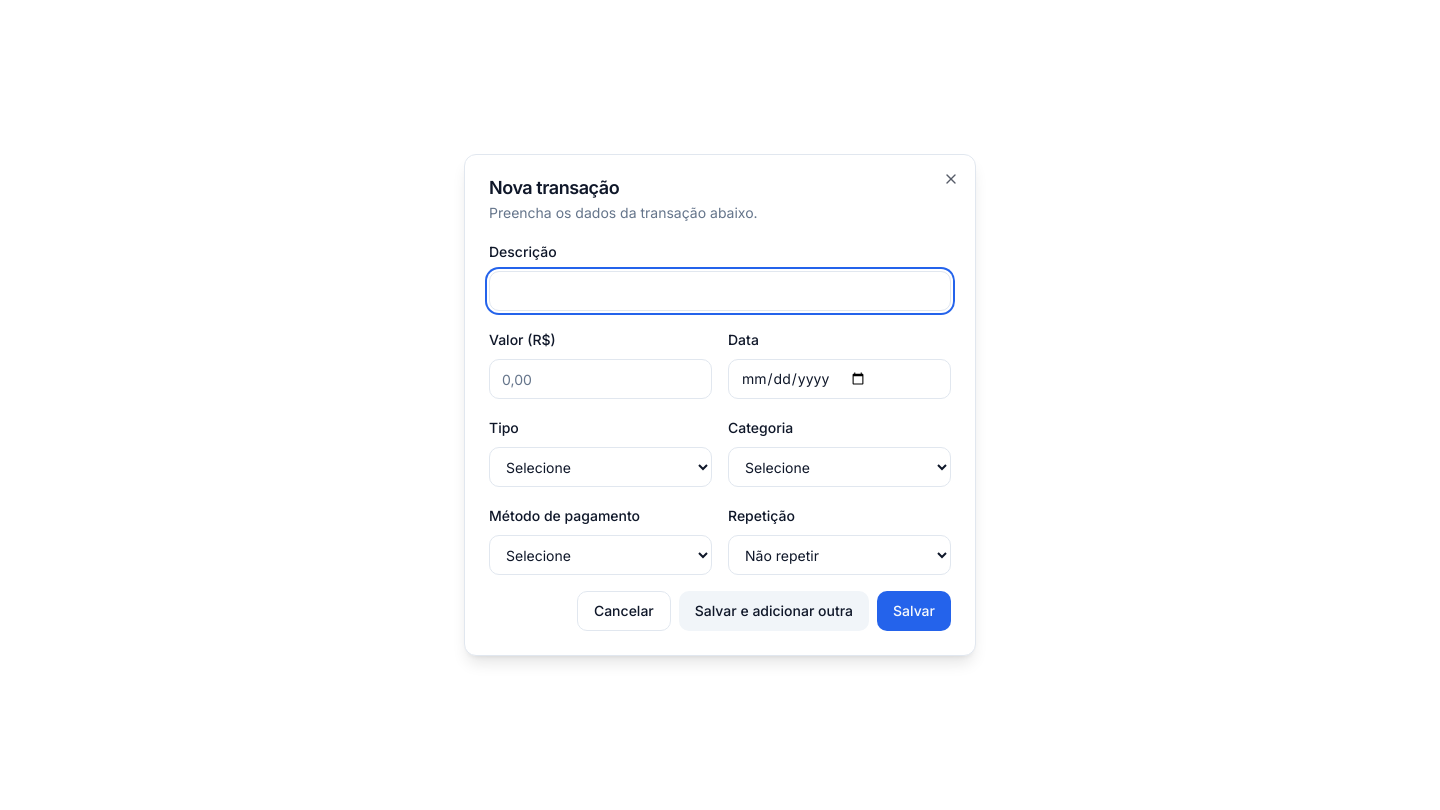
it: TransactionForm (AC-008) › mostra erro e mantém o modal quando o salvamento falha
Type "Nova despesa" into the field labelled "Descrição" at (720, 291), box [489,271,951,311]
Type "99,90" into the field labelled "Valor (R$)" at (600, 379), box [489,359,712,399]
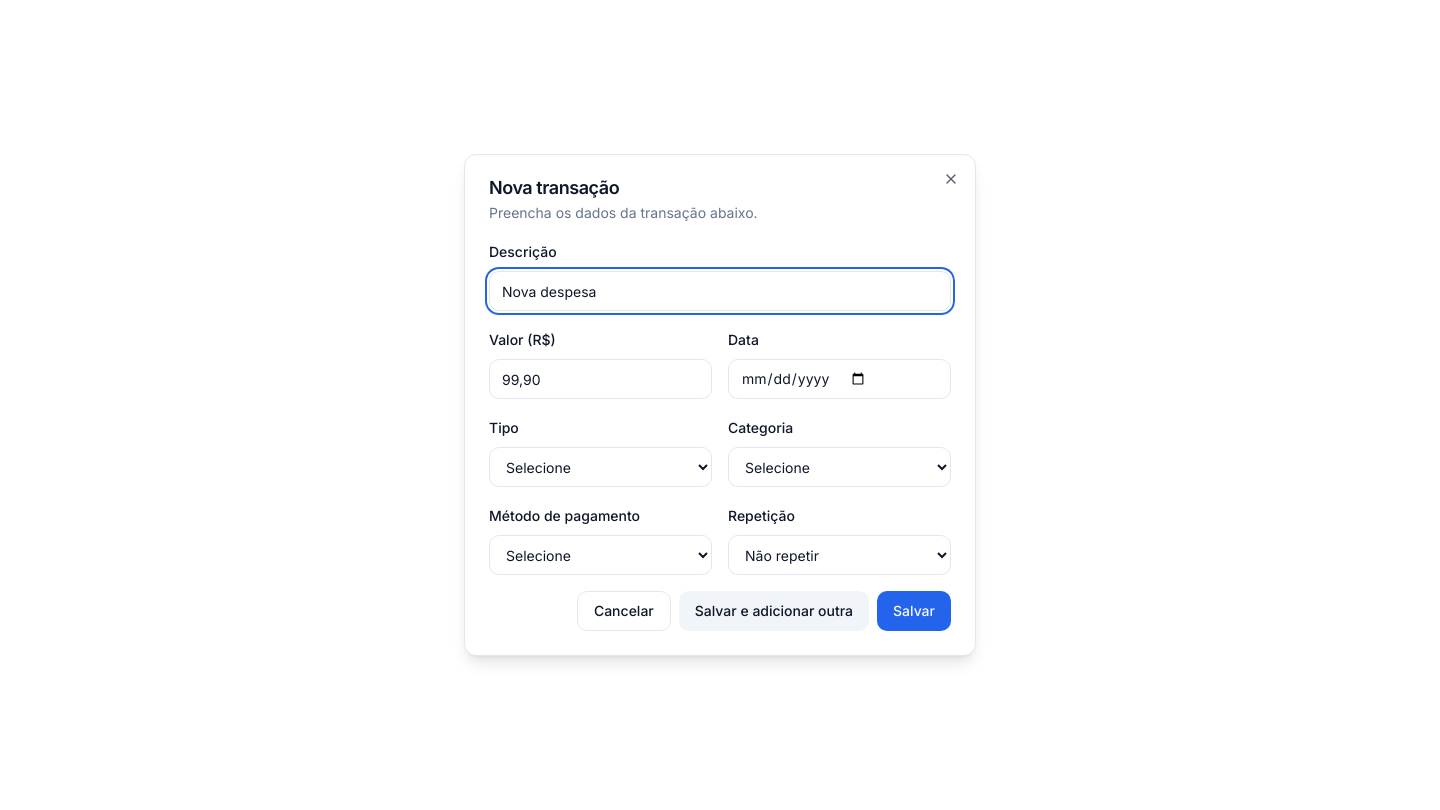
Select "Despesa" in the dropdown labelled "Tipo" at (600, 467), box [489,447,712,487]
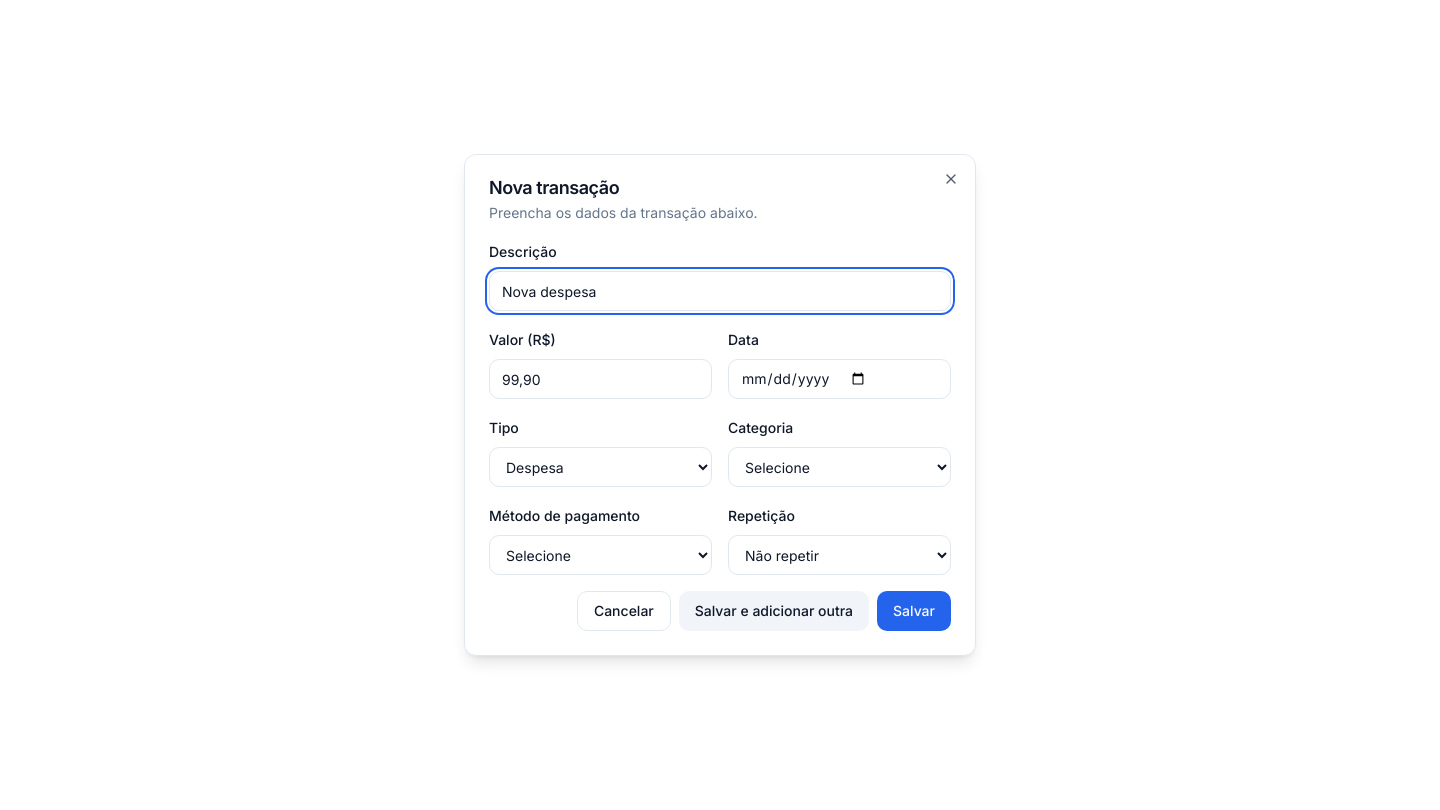
Select "Alimentação" in the dropdown labelled "Categoria" at (840, 467), box [728,447,951,487]
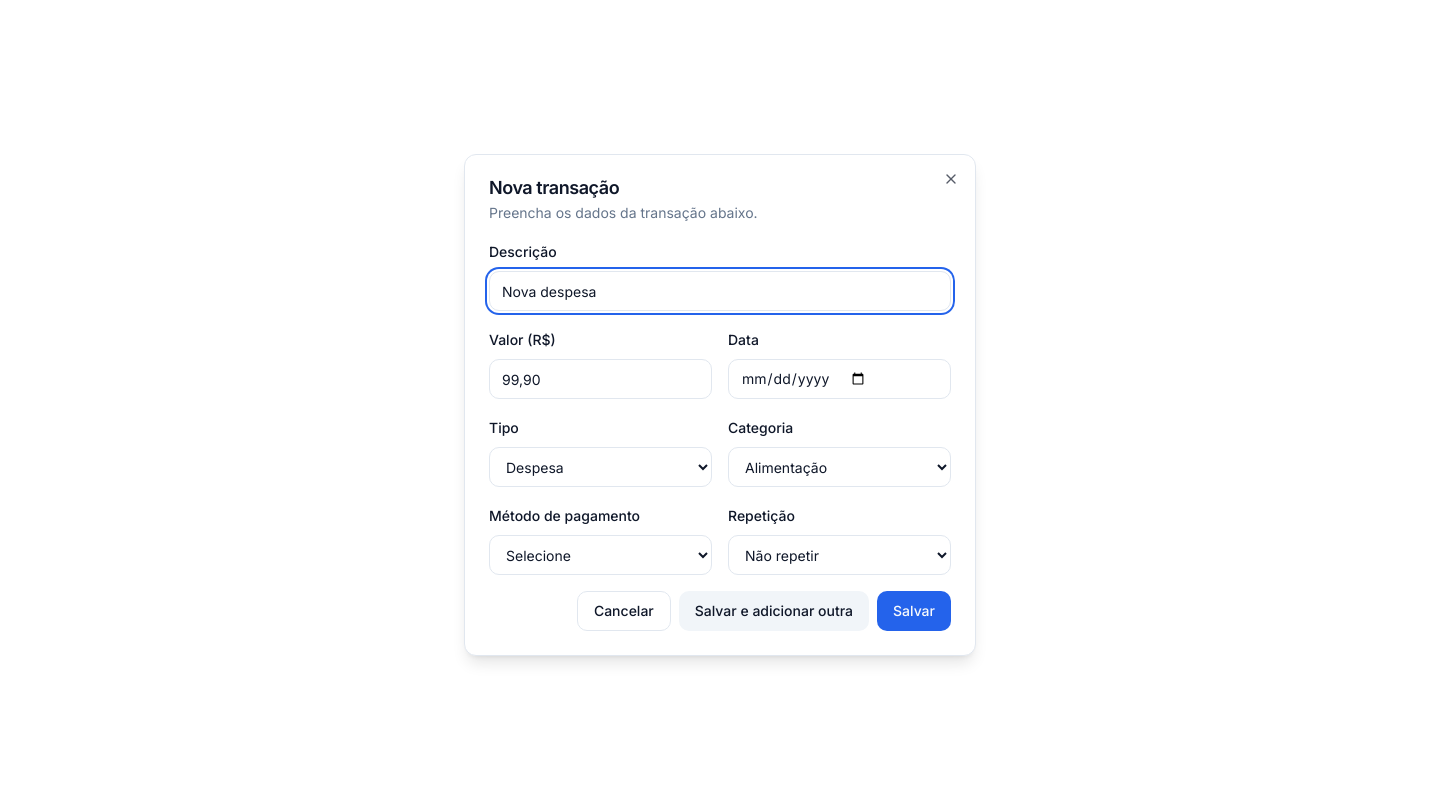
Select "Pix" in the dropdown labelled "Método de pagamento" at (600, 555), box [489,535,712,575]
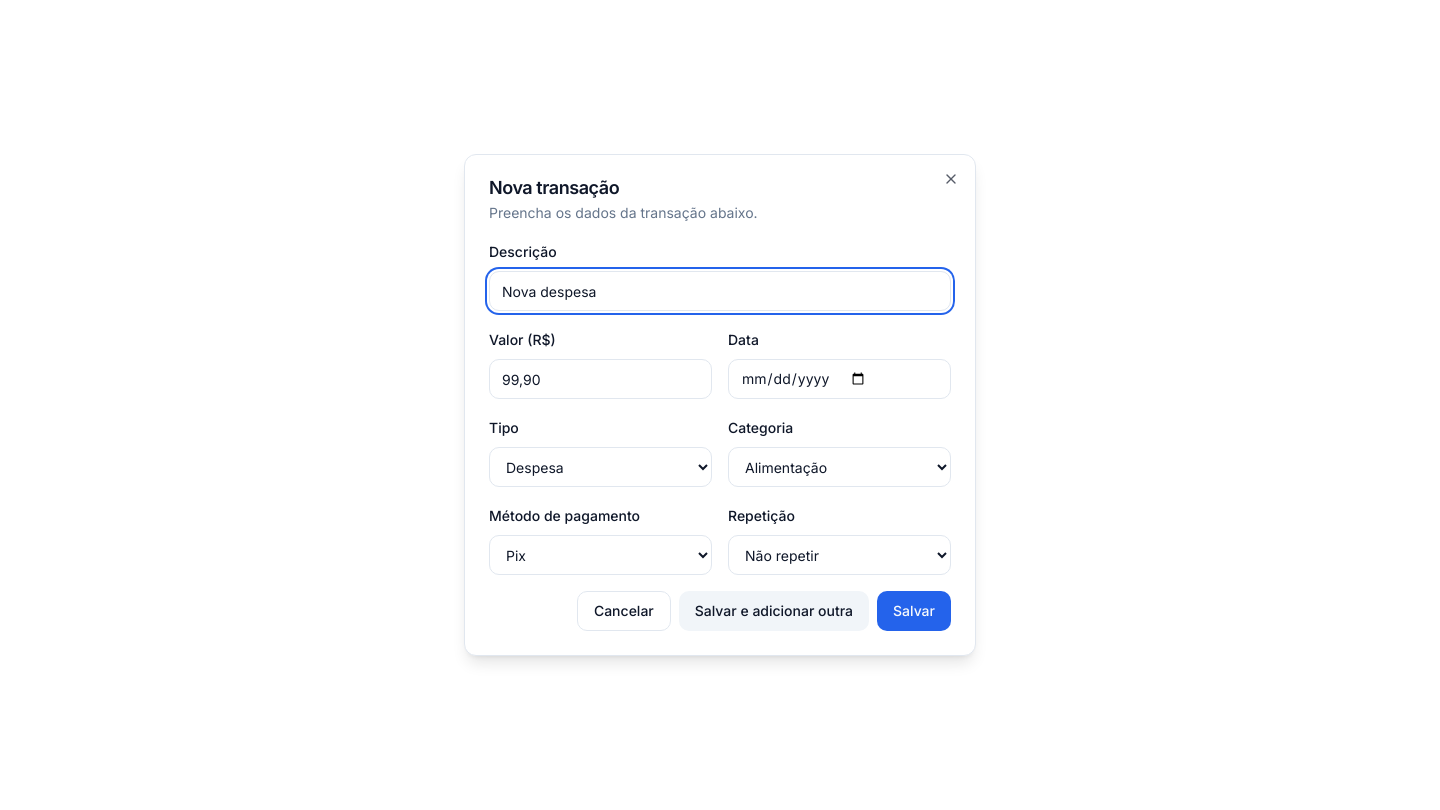
Type "2026-10-10" into the date field labelled "Data" at (840, 379), box [728,359,951,399]
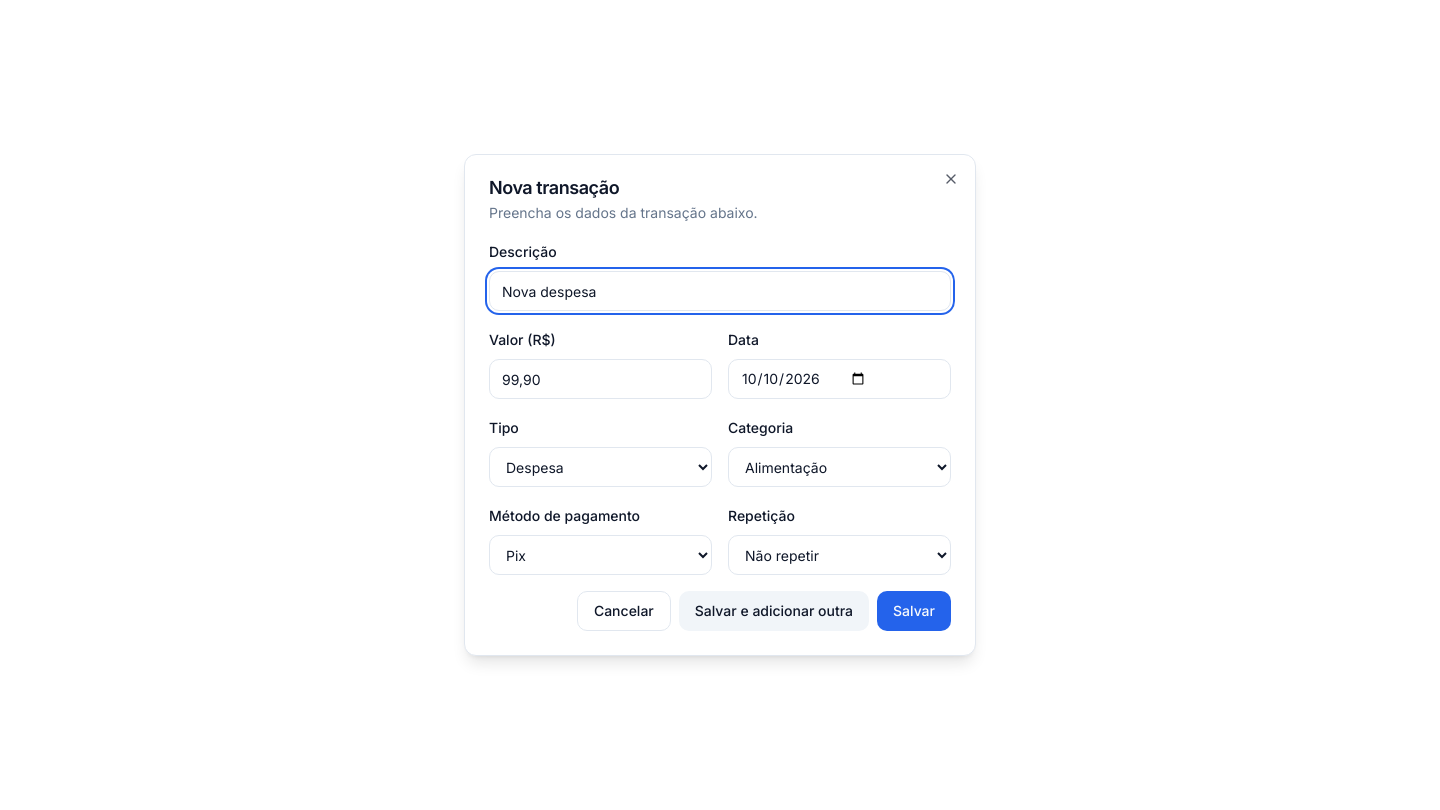
Click the button "Salvar" at (914, 611), box [877,591,951,631]
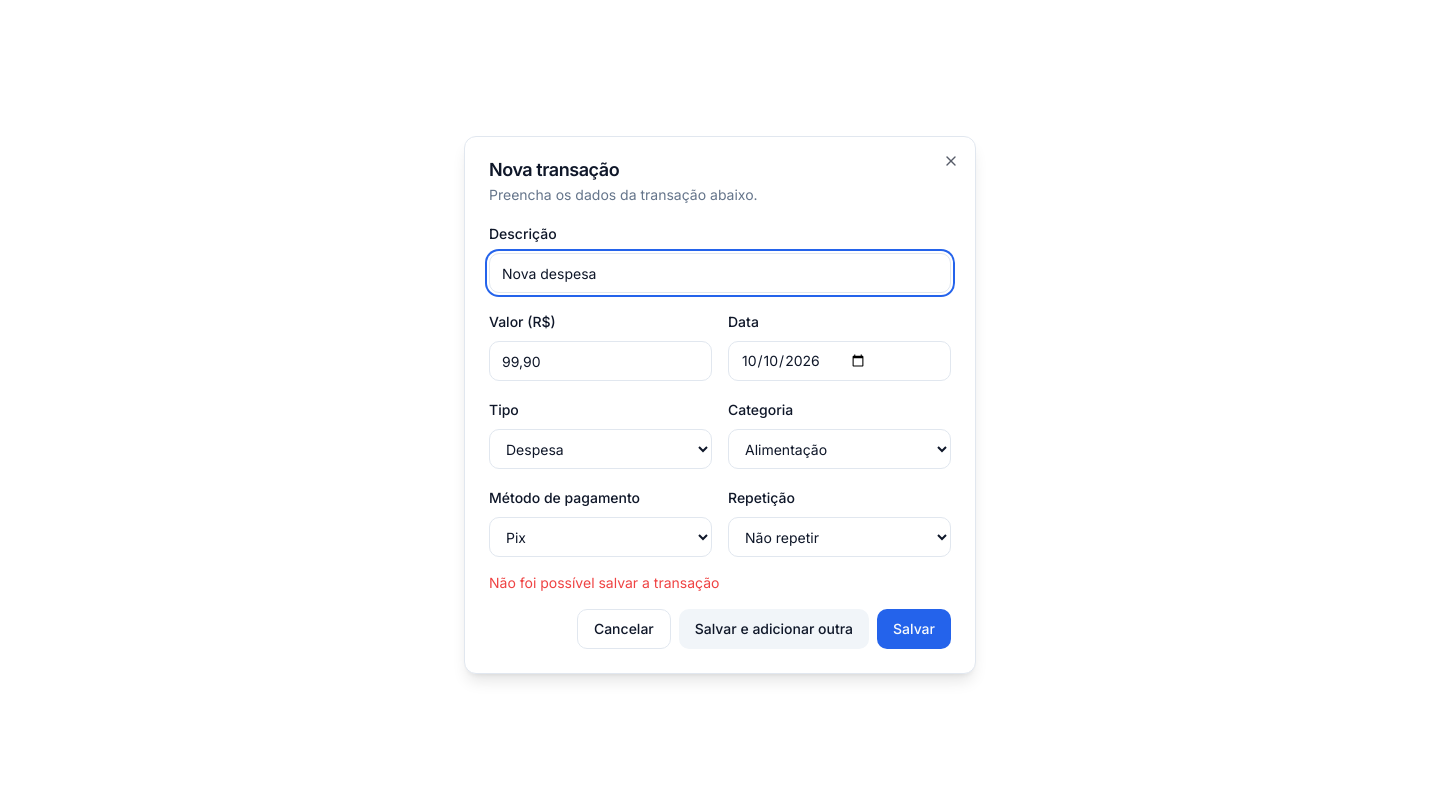
Now the message reads "Não foi possível salvar a transação", box [489,574,720,591]
